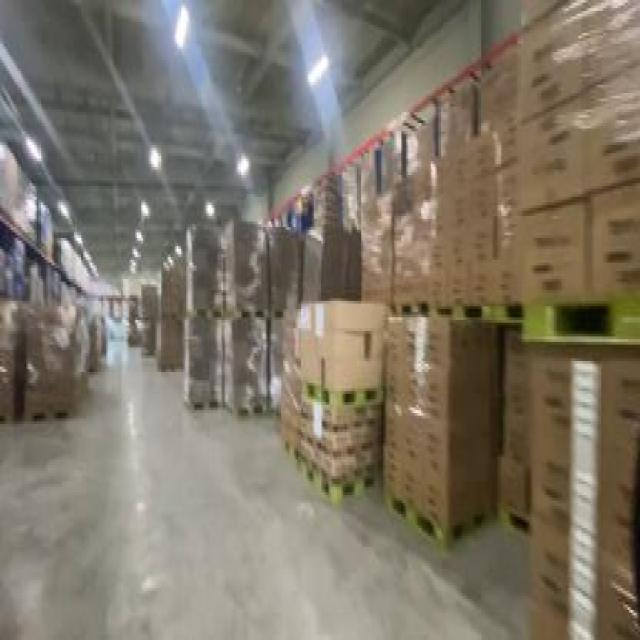box: (351, 9, 638, 348), (511, 345, 638, 637), (183, 222, 351, 432), (378, 312, 489, 541), (274, 301, 378, 503), (2, 298, 108, 416), (2, 134, 52, 254), (152, 273, 192, 372), (0, 235, 52, 306), (134, 284, 158, 356), (126, 290, 142, 350)
